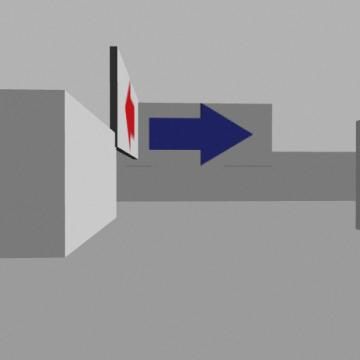blue_right: (149, 103, 252, 164)
red_left: (125, 82, 134, 148)
